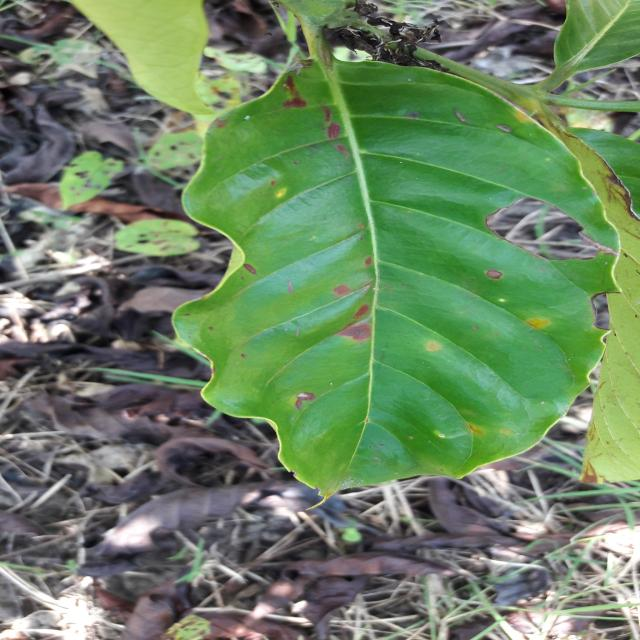Plaga-AranaRoja: (171, 48, 619, 499)
